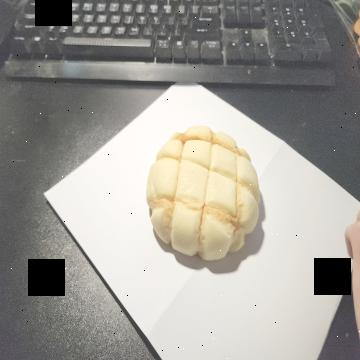melon_bread: (148, 126, 260, 266)
